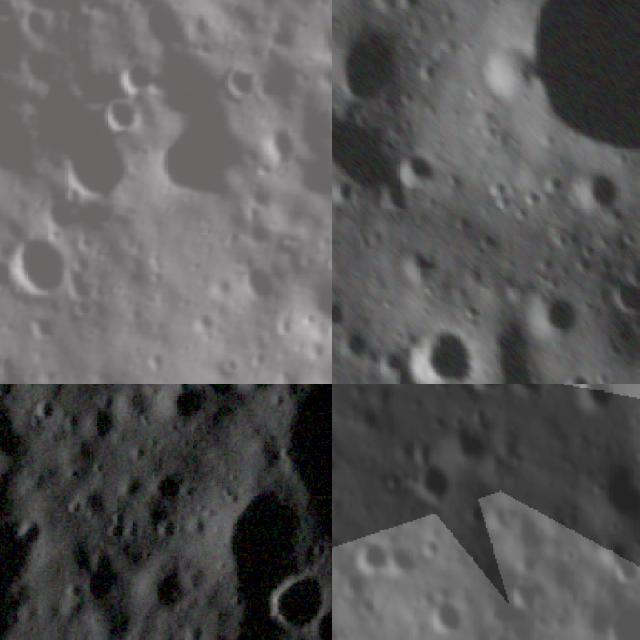crater: (0, 0, 167, 200), (523, 0, 640, 147), (0, 425, 80, 636), (252, 542, 332, 640), (128, 537, 213, 625), (56, 530, 136, 612), (0, 222, 76, 302), (332, 30, 398, 104), (405, 324, 471, 384), (150, 384, 216, 435), (530, 282, 577, 343), (564, 169, 626, 213), (74, 397, 124, 448), (235, 253, 282, 307), (148, 460, 195, 509), (118, 41, 158, 97), (24, 386, 70, 433), (409, 458, 453, 506), (96, 86, 136, 137), (393, 146, 442, 186), (16, 0, 56, 43), (351, 534, 388, 580), (19, 307, 61, 347), (218, 384, 301, 404), (262, 120, 298, 163), (424, 594, 462, 634), (596, 606, 640, 640), (216, 62, 256, 98), (570, 384, 611, 413), (612, 547, 640, 582), (303, 332, 329, 362), (396, 544, 417, 578), (217, 346, 242, 374), (0, 329, 13, 378), (247, 345, 270, 369), (466, 402, 489, 426), (461, 384, 521, 392), (423, 538, 444, 559), (489, 629, 520, 640)
